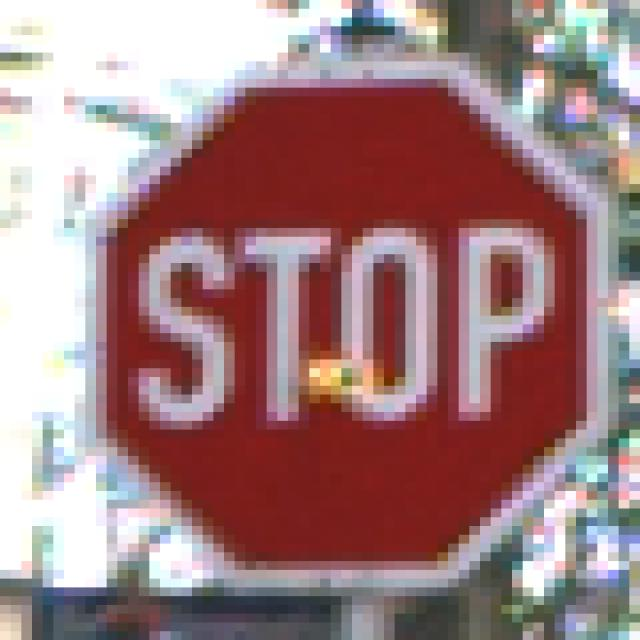STOP: (65, 62, 588, 580)
